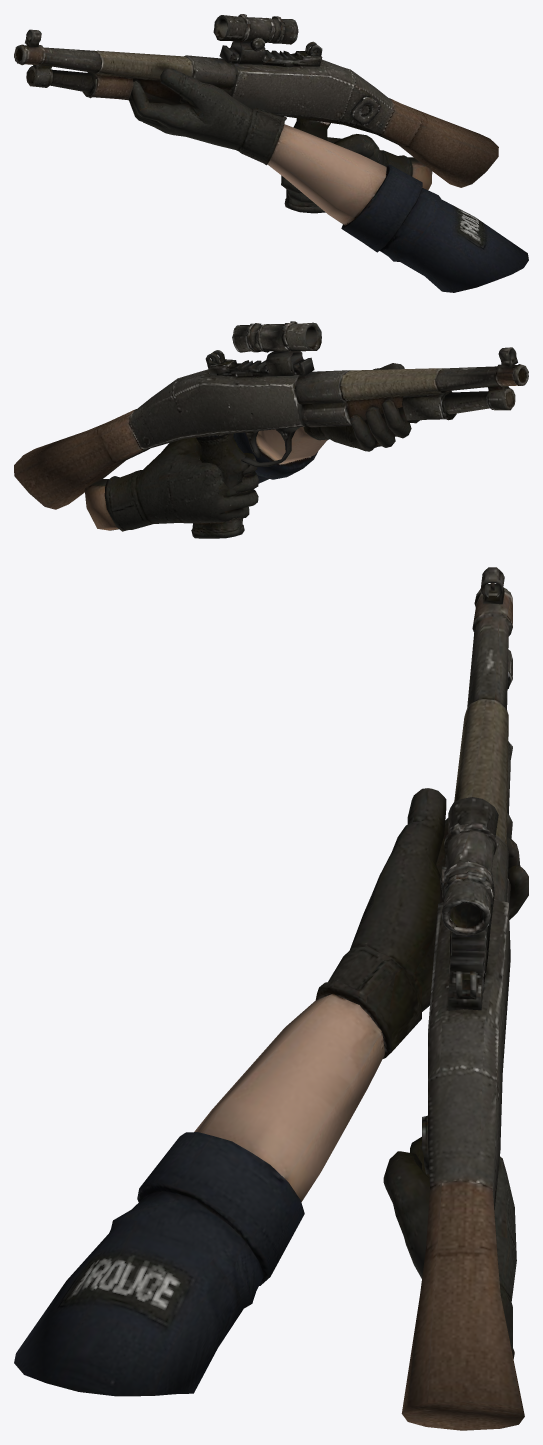
The model's file is police+shotgun.glb.
The picture shows the model from 3 angles, top to bottom: view 1: azimuth 30°, elevation 25°; view 2: azimuth 150°, elevation 25°; view 3: azimuth 270°, elevation 25°; orthographic projection. The views are drawn at different scales.
Visible parts, largest first — view 1: Model; view 2: Model; view 3: Model.
Boxes of the visible parts, x1,y1,x2,y2 form: Model: [14, 14, 528, 292]; Model: [14, 321, 528, 538]; Model: [14, 567, 528, 1430].
Bounding box in the file's own units: 0.998 × 0.5488 × 0.498.
Materials: 1 (1 with a texture image).
